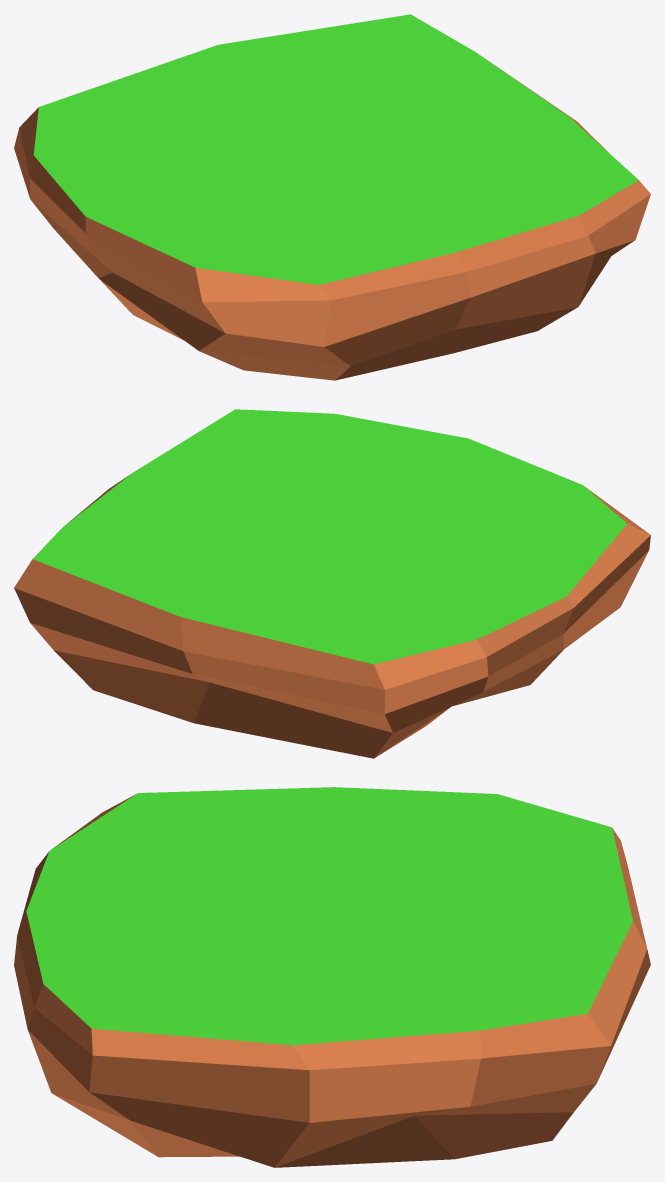
File: IslandGreen.fbx
The picture shows the model from 3 angles, top to bottom: view 1: azimuth 30°, elevation 25°; view 2: azimuth 150°, elevation 25°; view 3: azimuth 270°, elevation 25°; orthographic projection. The views are drawn at different scales.
Parts seen in each view (by area): view 1: Cylinder.001; view 2: Cylinder.001; view 3: Cylinder.001.
Boxes of the visible parts, left/top/right/bottom form: Cylinder.001: left=14, top=14, right=650, bottom=380; Cylinder.001: left=14, top=409, right=650, bottom=758; Cylinder.001: left=14, top=787, right=650, bottom=1167.
Bounding box in the file's own units: 1369 × 433 × 1341.
